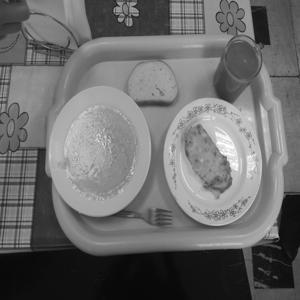bread: (119, 55, 186, 107)
cheese_sandwich: (177, 118, 238, 200)
coffee: (211, 22, 268, 111)
porridge: (42, 91, 150, 216)
